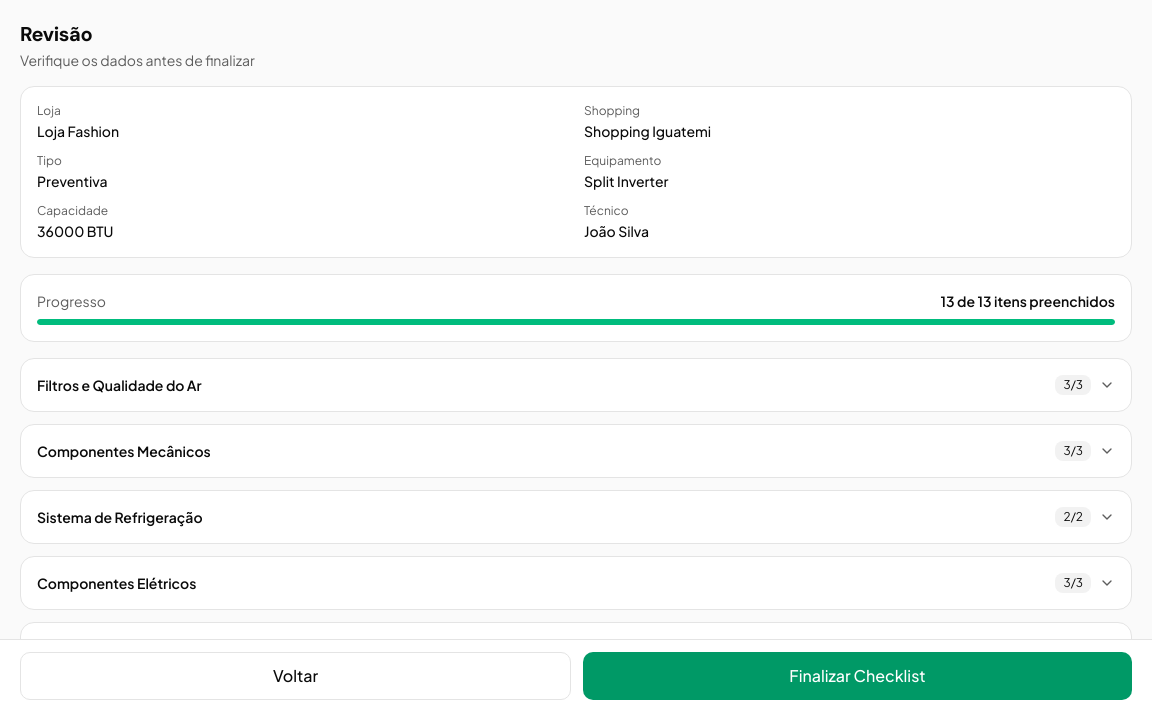
Test: ReportSummary › shows item values with color coding when section is expanded
Expand the first section to see item values
Click the button "Filtros e Qualidade do Ar 3/3" at (119, 385), box [21,359,1131,411]
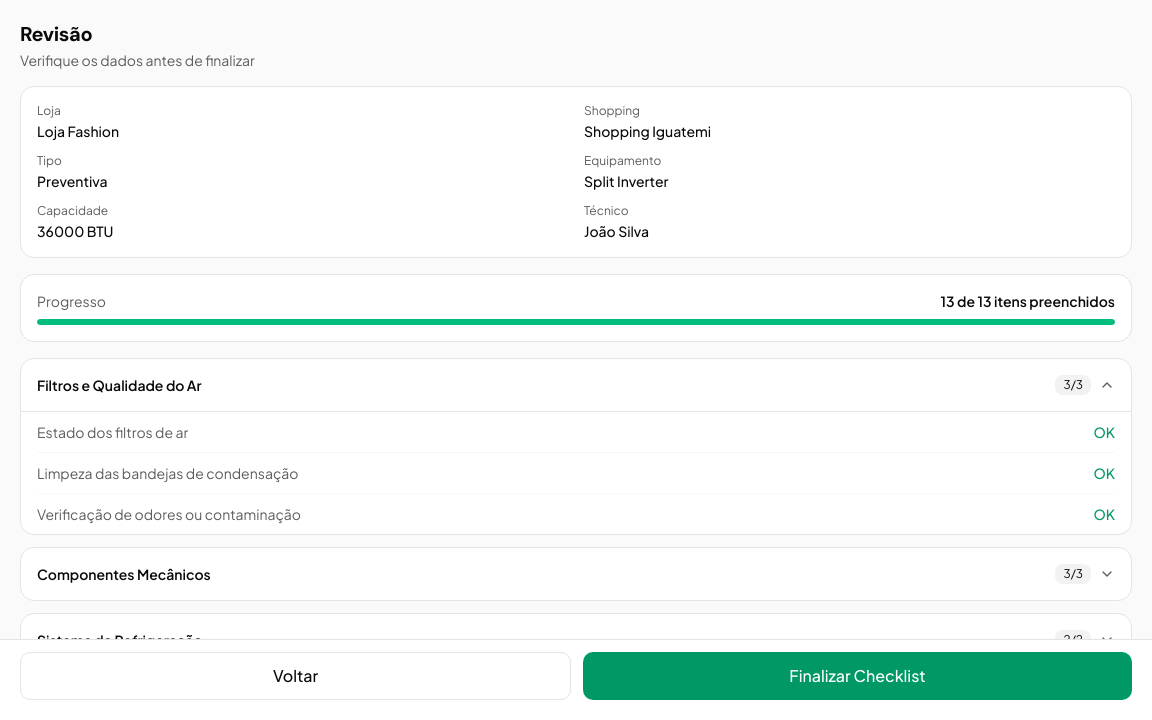
Expected: the text "OK" in the row of "Estado dos filtros de ar" is shown, [1093,423,1115,441]
